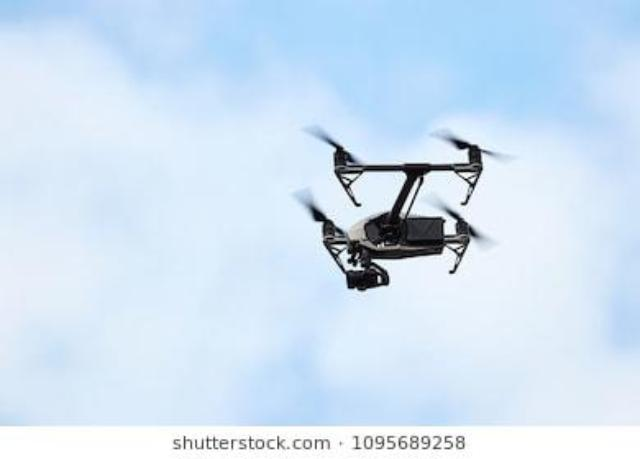drone: (268, 106, 546, 312)
